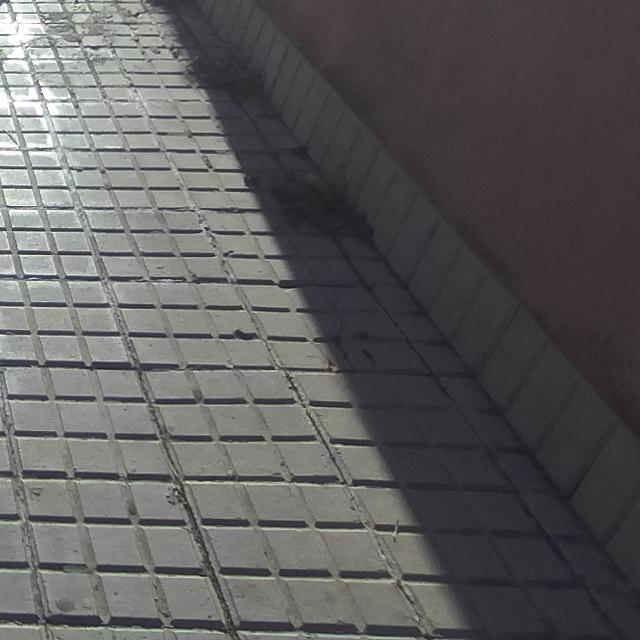calcada_quebrada: (330, 290, 357, 371)
